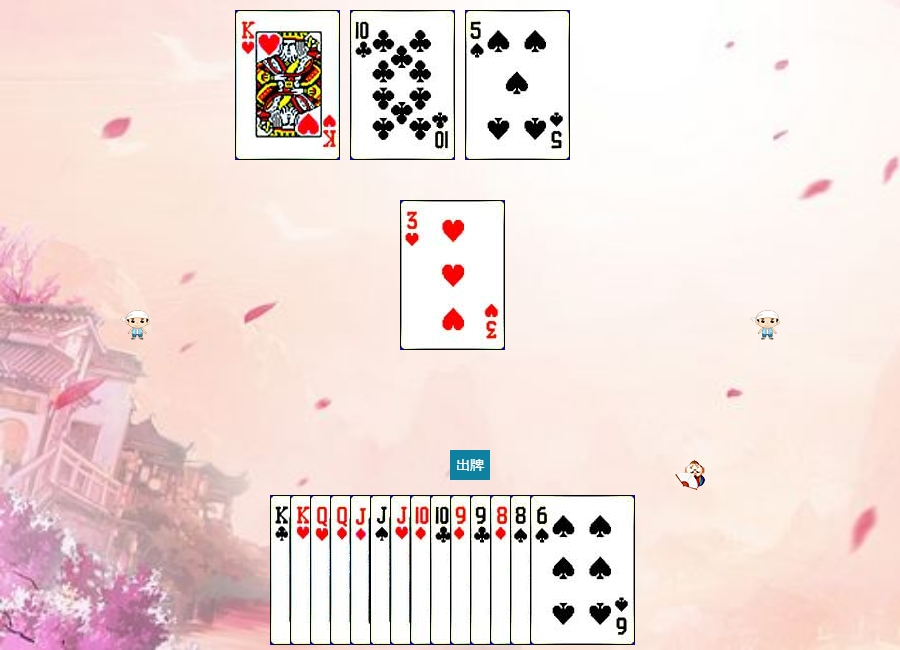10~1: (410, 495, 515, 645)
10~2: (350, 10, 455, 160), (430, 495, 535, 645)
11~1: (350, 495, 455, 645)
11~3: (390, 495, 495, 645)
11~4: (370, 495, 475, 645)
12~1: (330, 495, 435, 645)
12~3: (310, 495, 415, 645)
13~2: (270, 495, 375, 645)
13~3: (235, 10, 340, 160), (290, 495, 395, 645)
3~3: (400, 200, 505, 350)
5~4: (465, 10, 570, 160)
6~4: (530, 495, 635, 645)
8~1: (490, 495, 595, 645)
8~4: (510, 495, 615, 645)
9~1: (450, 495, 555, 645)
9~2: (470, 495, 575, 645)
